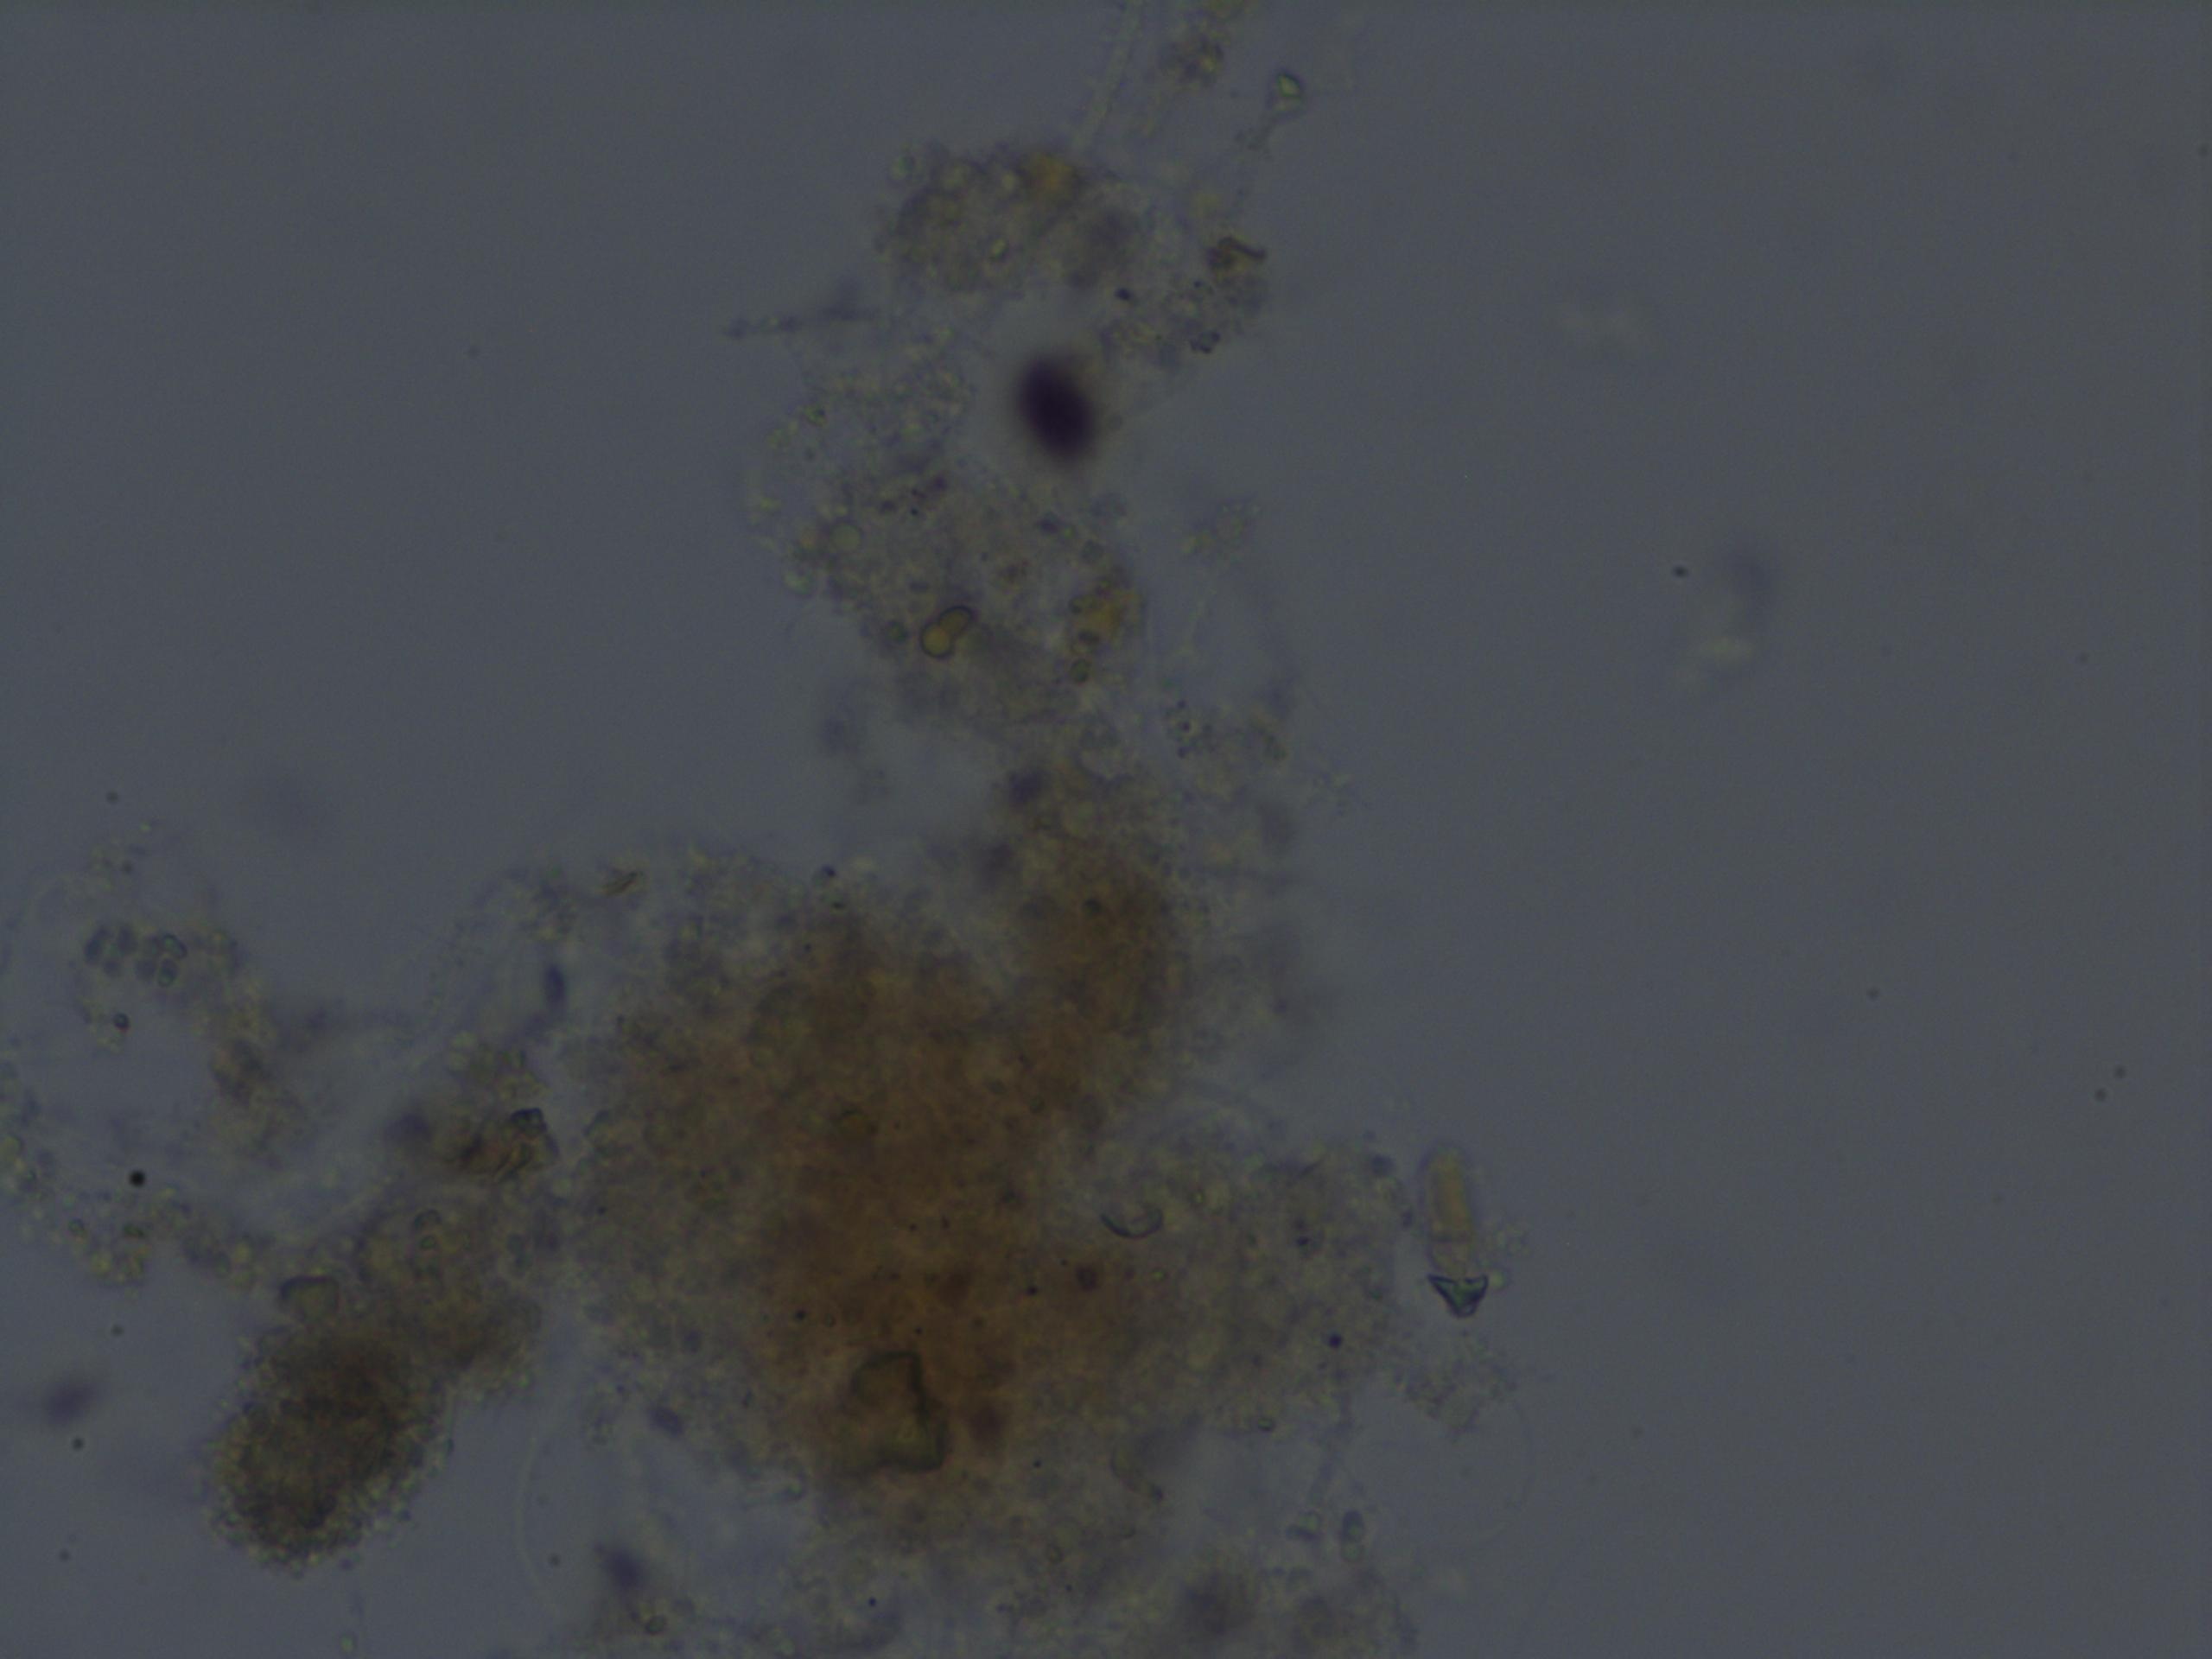open_floc: (3, 12, 1514, 1659)
